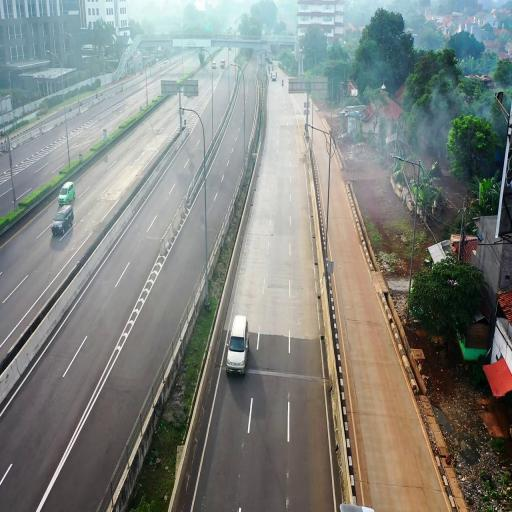vehicle: (52, 181, 76, 237), (226, 314, 248, 374)
